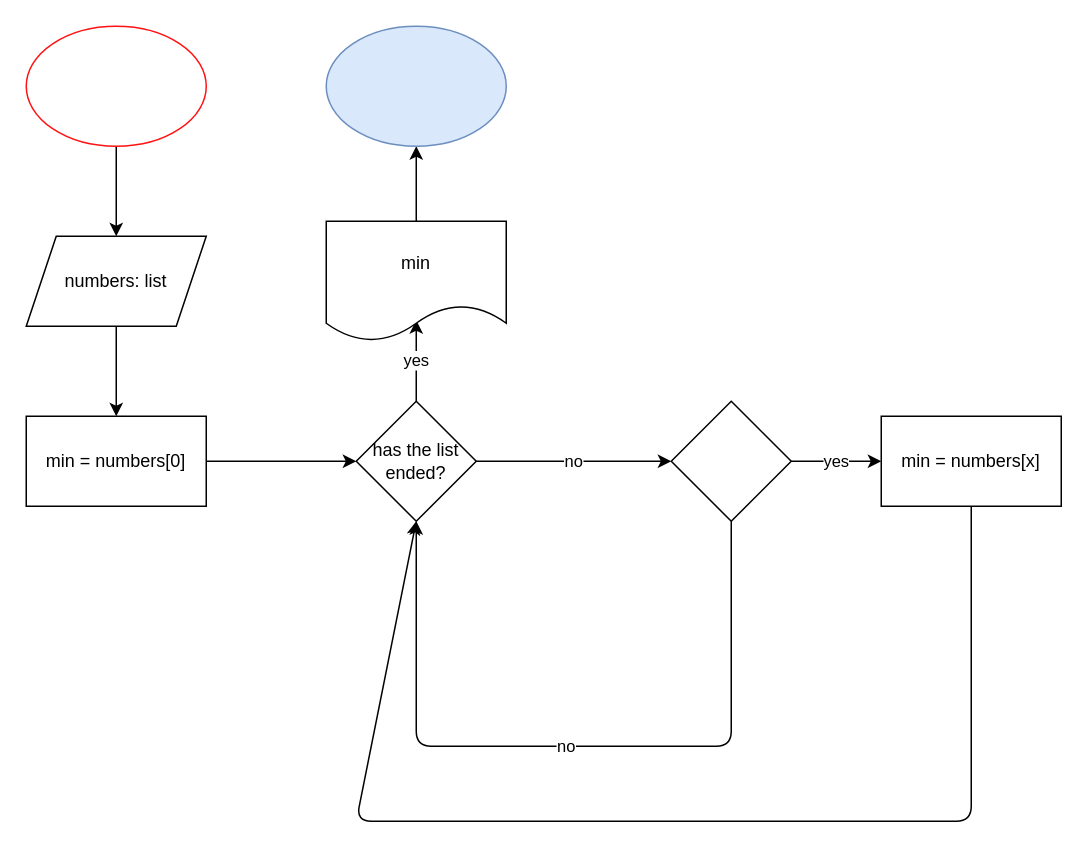
Image size: 1088x860. Some labels were removed from this diagram. The centre of each missing label's shape, as x and y in pixels:
finish: point (415, 85)
min > numbers[x]?: point (730, 460)
Start: point (115, 85)
